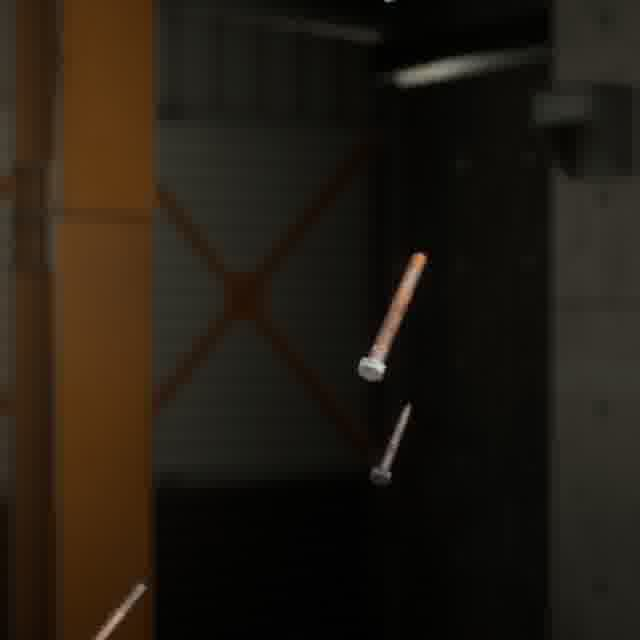bolt: (353, 248, 431, 385), (366, 398, 416, 489), (86, 577, 152, 640)
